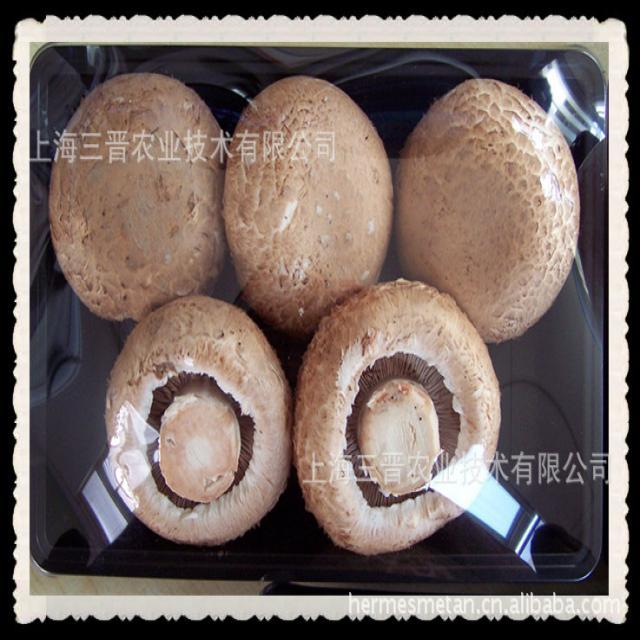Agaricus bisporus: (296, 270, 497, 538), (400, 80, 582, 340), (215, 81, 397, 320), (105, 303, 290, 538), (52, 84, 230, 310)
